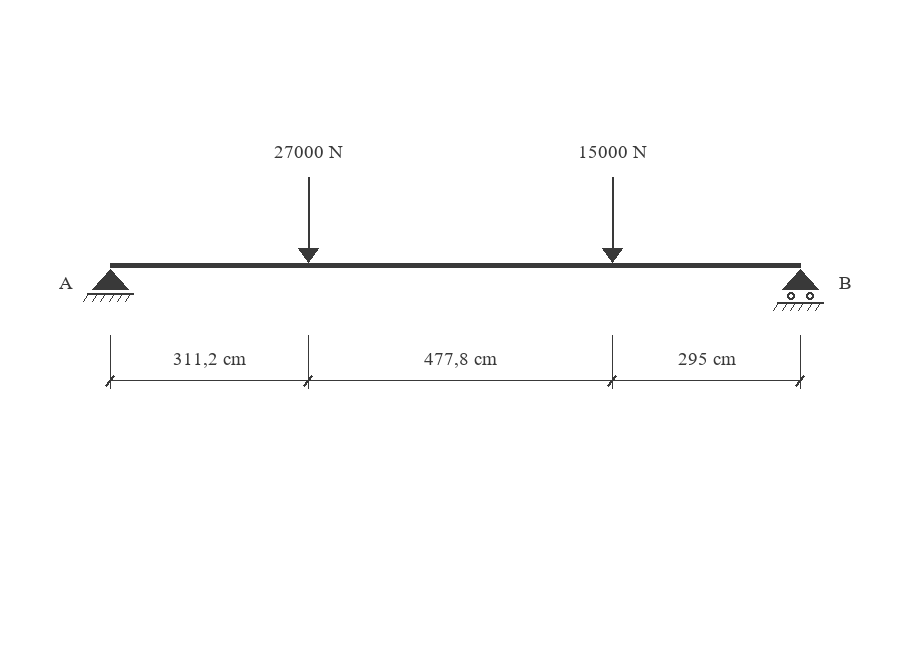pin_support: (83, 269, 134, 302)
point_load: (298, 177, 319, 263), (602, 177, 623, 263)
roller_support: (773, 269, 824, 311)
